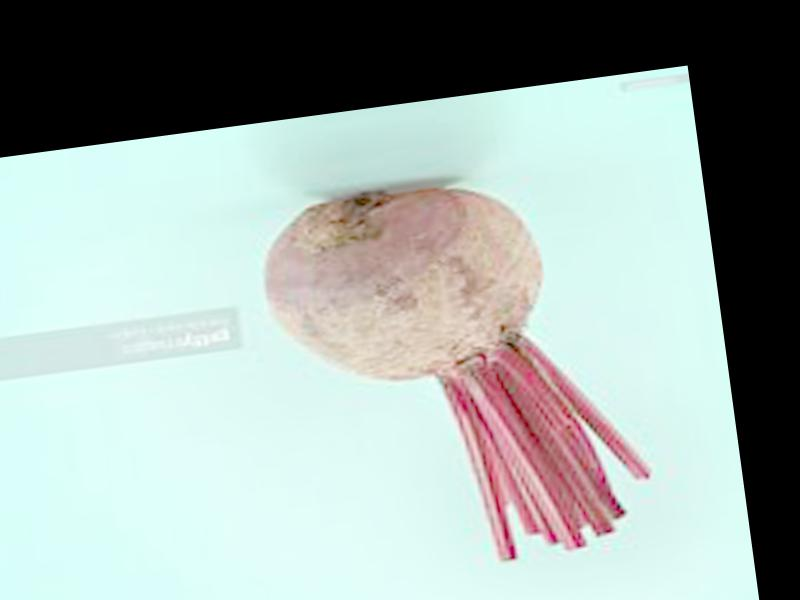Beet: (253, 159, 657, 589)
